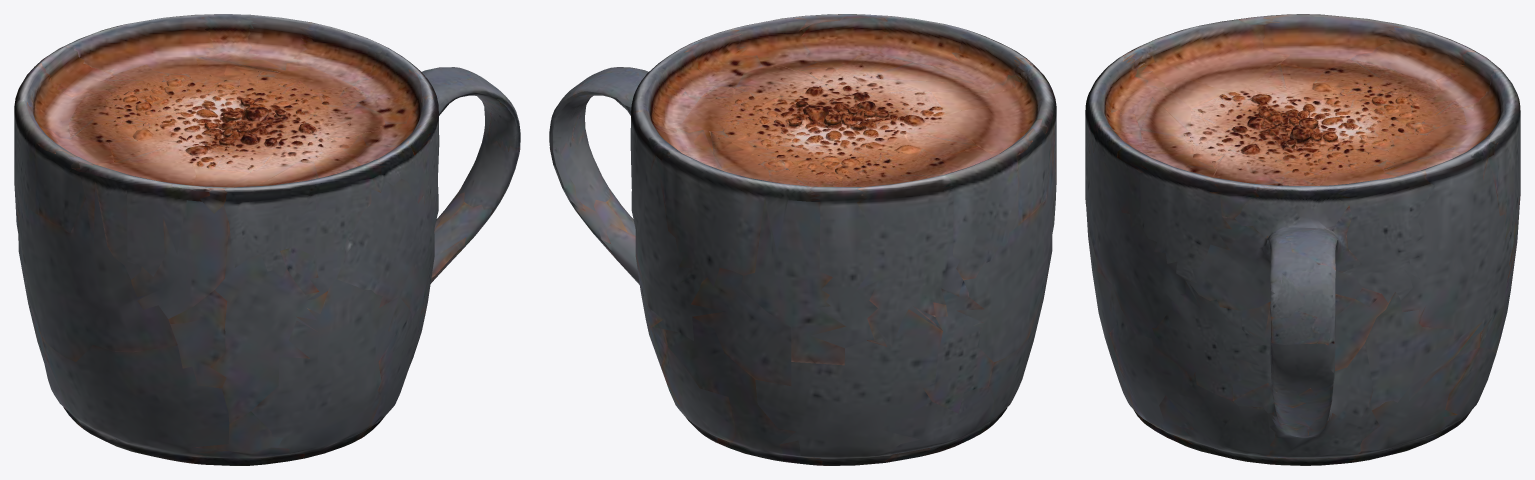
The model's file is umbra-lite.glb.
3 renders of one model, left to right at view 1: azimuth 30°, elevation 25°; view 2: azimuth 150°, elevation 25°; view 3: azimuth 270°, elevation 25°, orthographic.
Visible parts, largest first — view 1: Mesh_0; view 2: Mesh_0; view 3: Mesh_0.
Part boxes in pixels (x1,y1,x2,y2): Mesh_0: (14,14,520,465); Mesh_0: (549,14,1056,465); Mesh_0: (1085,14,1520,465).
Size of the model in its own units: 1.9 by 1.15 by 1.53.
Materials: 1 (1 with a texture image).
